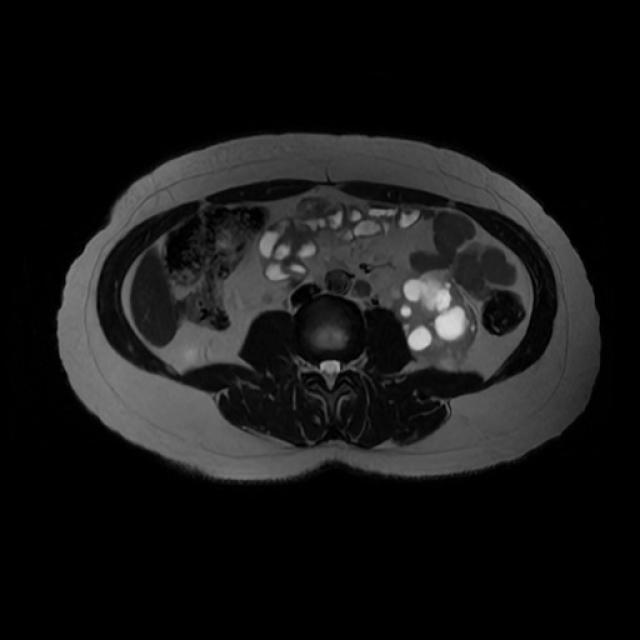sol: (389, 268, 479, 373)
